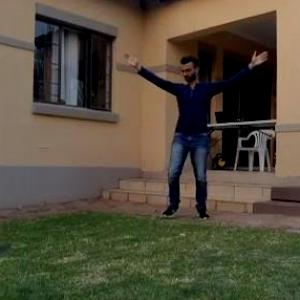takeoff: (125, 49, 272, 212)
